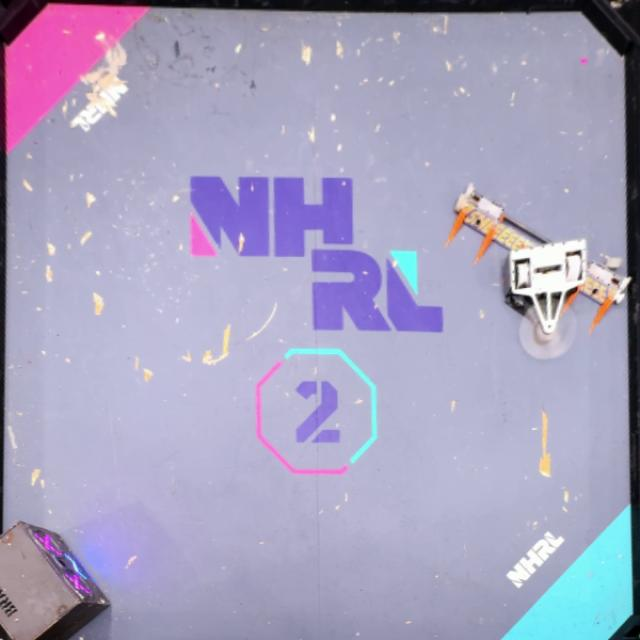housebot: (0, 517, 112, 640)
robot: (446, 184, 630, 330), (504, 236, 590, 358)
